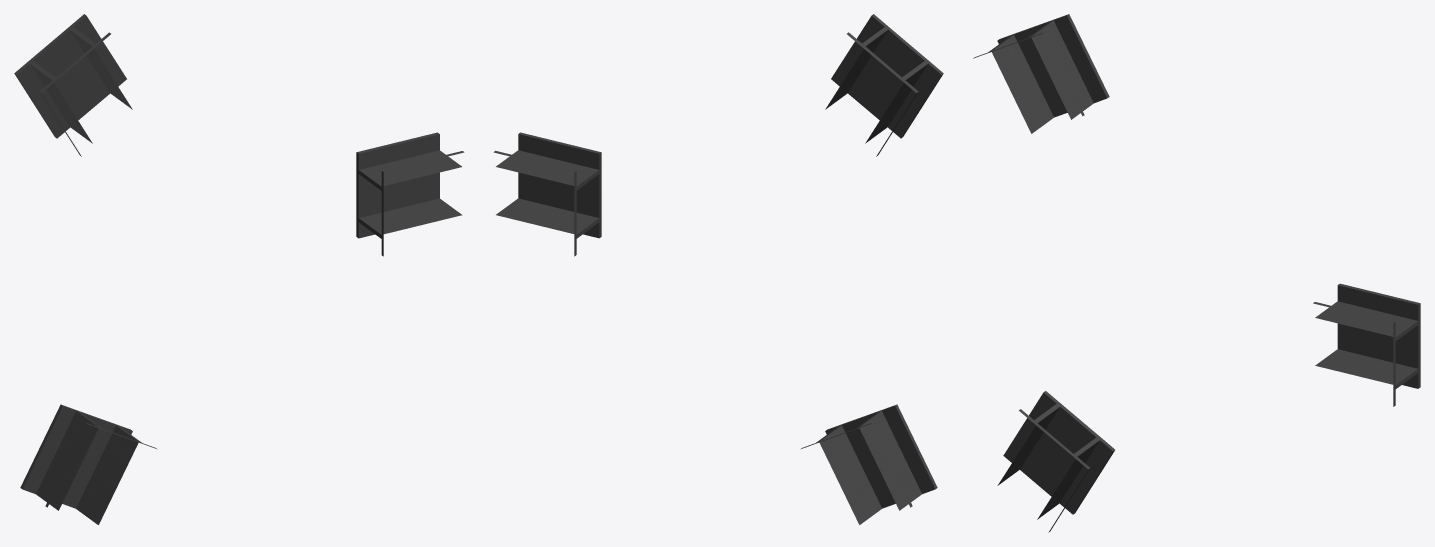
The model's file is jc-sj-1546-geode.glb.
3 renders of one model, left to right at view 1: azimuth 30°, elevation 25°; view 2: azimuth 150°, elevation 25°; view 3: azimuth 330°, elevation 25°, orthographic.
Parts seen in each view (by area): view 1: Node; view 2: Node; view 3: Node.
Part boxes in pixels (x1,y1,x2,y2): Node: (14,14,464,524); Node: (493,14,943,524); Node: (973,14,1420,532).
Size of the model in its own units: 1.43 by 1.62 by 0.1596.
Materials: 1 (1 with a texture image).
